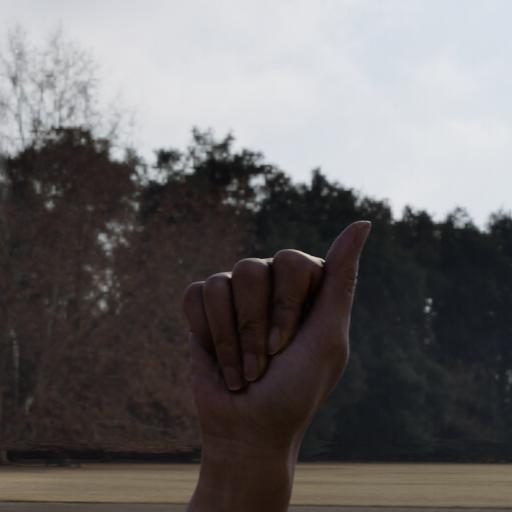A: (160, 194, 392, 464)
